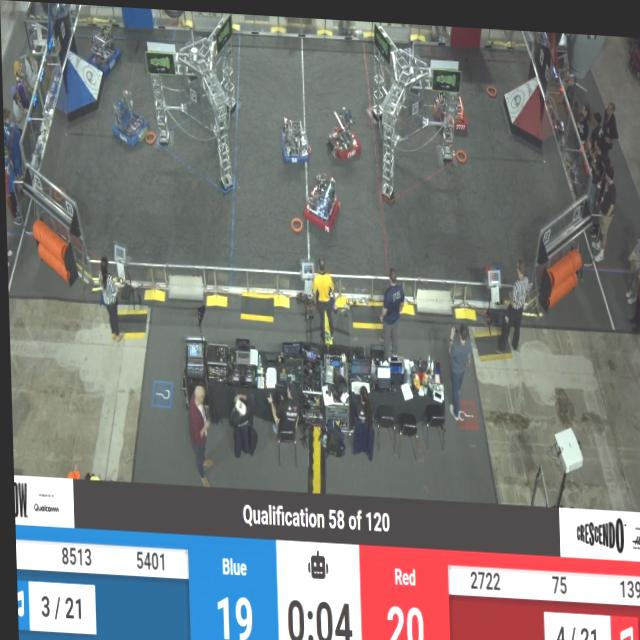Robot: (301, 161, 344, 231), (429, 69, 473, 133), (111, 87, 149, 149), (325, 100, 361, 162), (90, 17, 123, 78), (278, 109, 310, 166)
